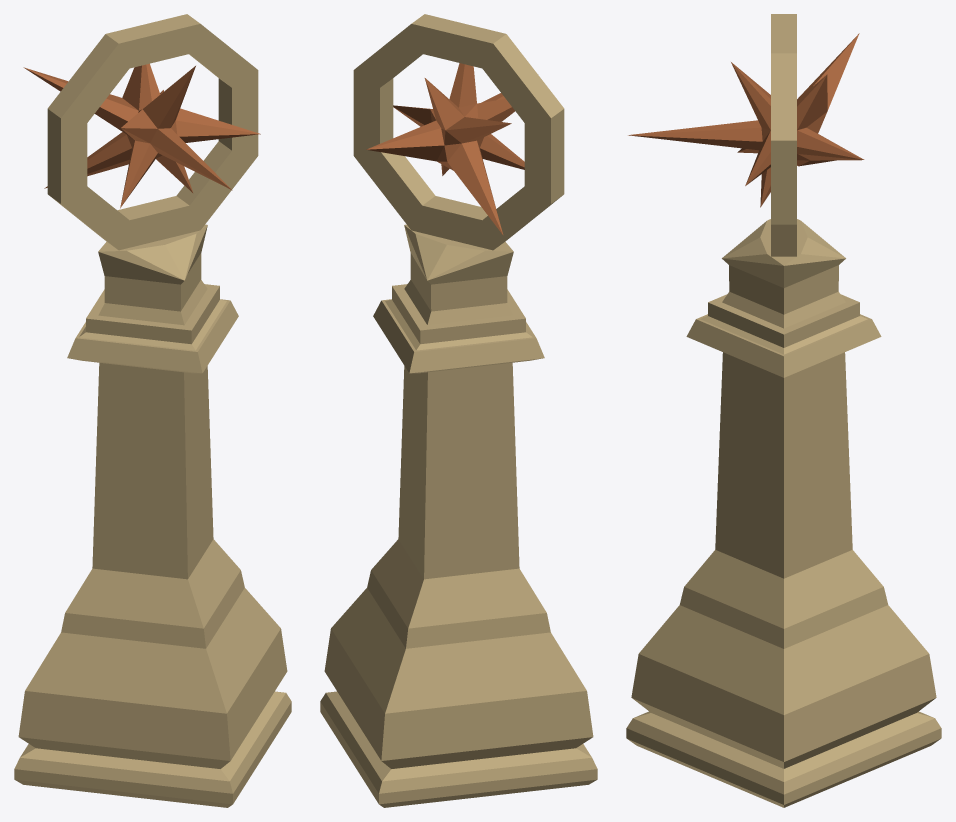
Rendered from shooter.fbx.
3 views of the same model, side by side, from view 1: azimuth 30°, elevation 25°; view 2: azimuth 150°, elevation 25°; view 3: azimuth 270°, elevation 25° (orthographic).
Visible parts, largest first — view 1: Bishop; view 2: Bishop; view 3: Bishop.
Boxes of the visible parts, x1=… form: Bishop: x1=14, y1=14, x2=291, y2=807; Bishop: x1=320, y1=14, x2=597, y2=807; Bishop: x1=626, y1=14, x2=941, y2=807.
Bounding box in the file's own units: 85.67 × 85.67 × 215.
